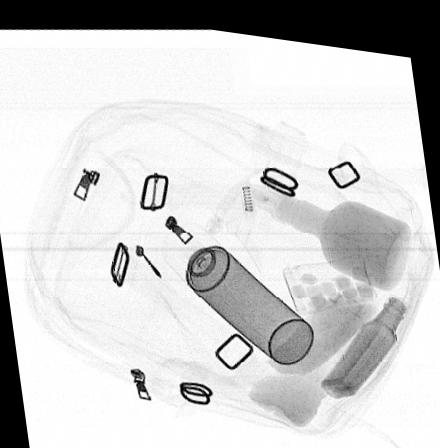Sprayer: (159, 210, 313, 356)
